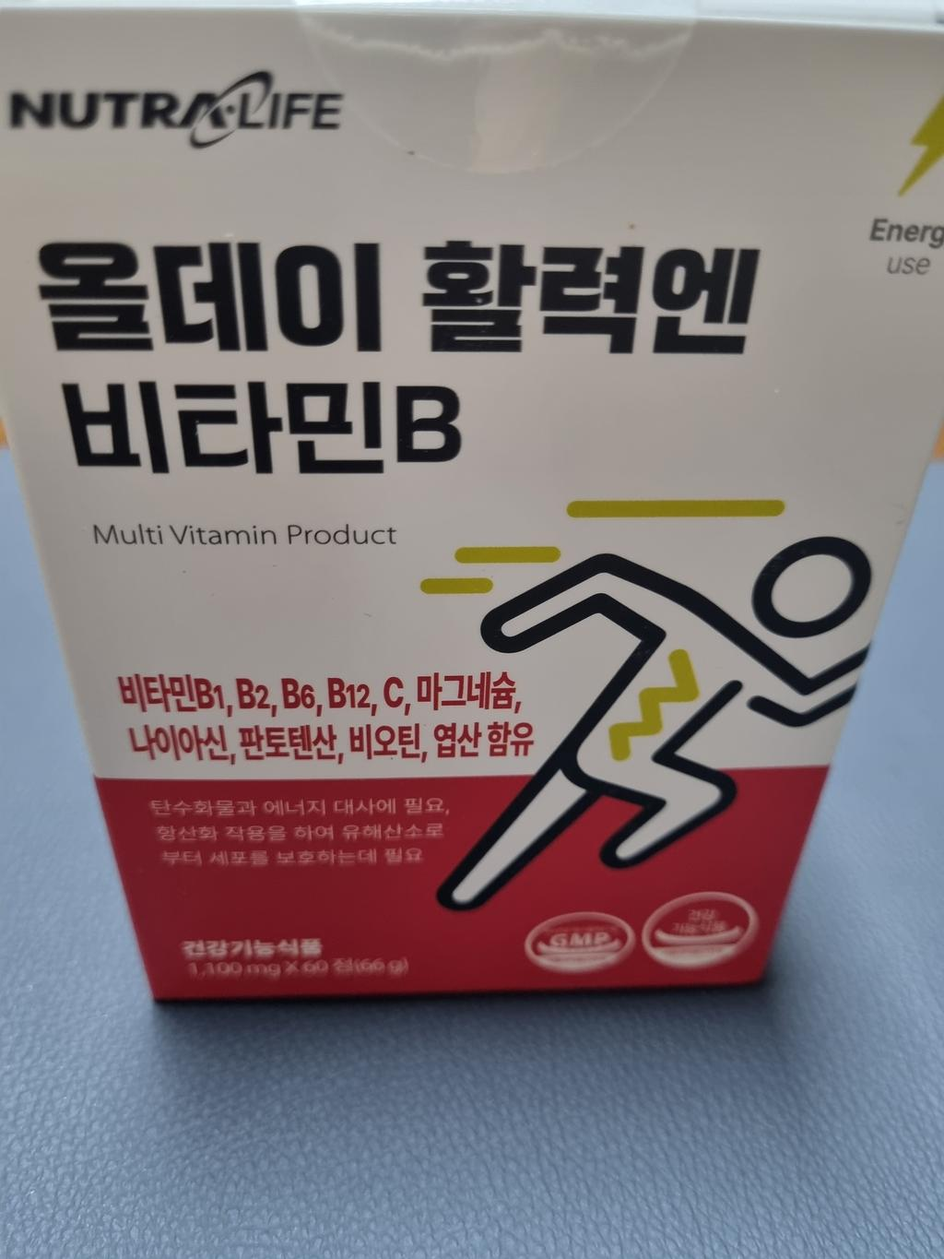supplement_label: (1, 64, 944, 1019)
